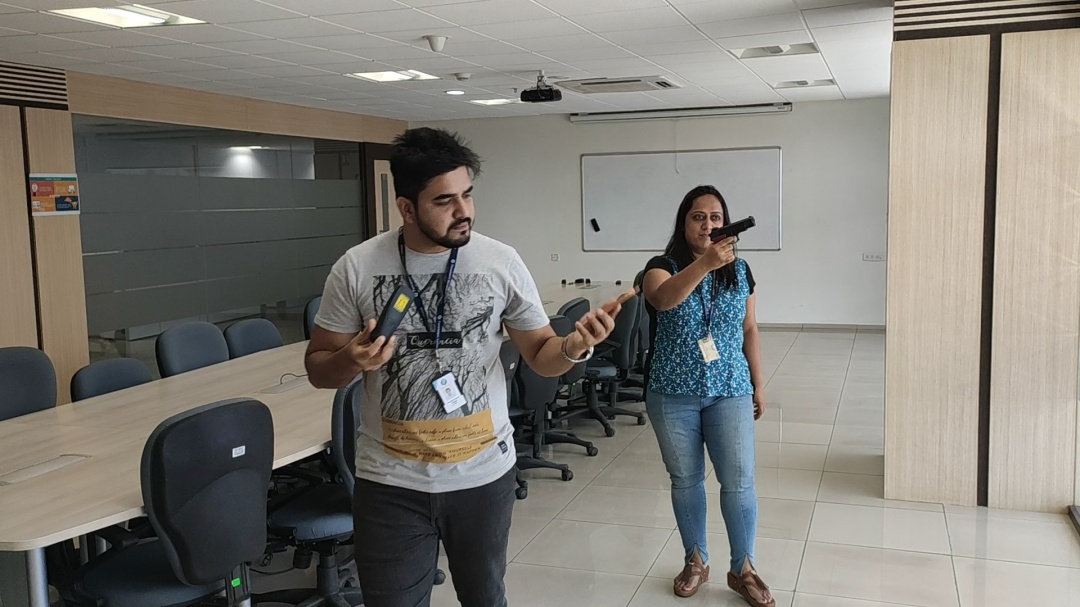gun: (709, 215, 758, 243)
